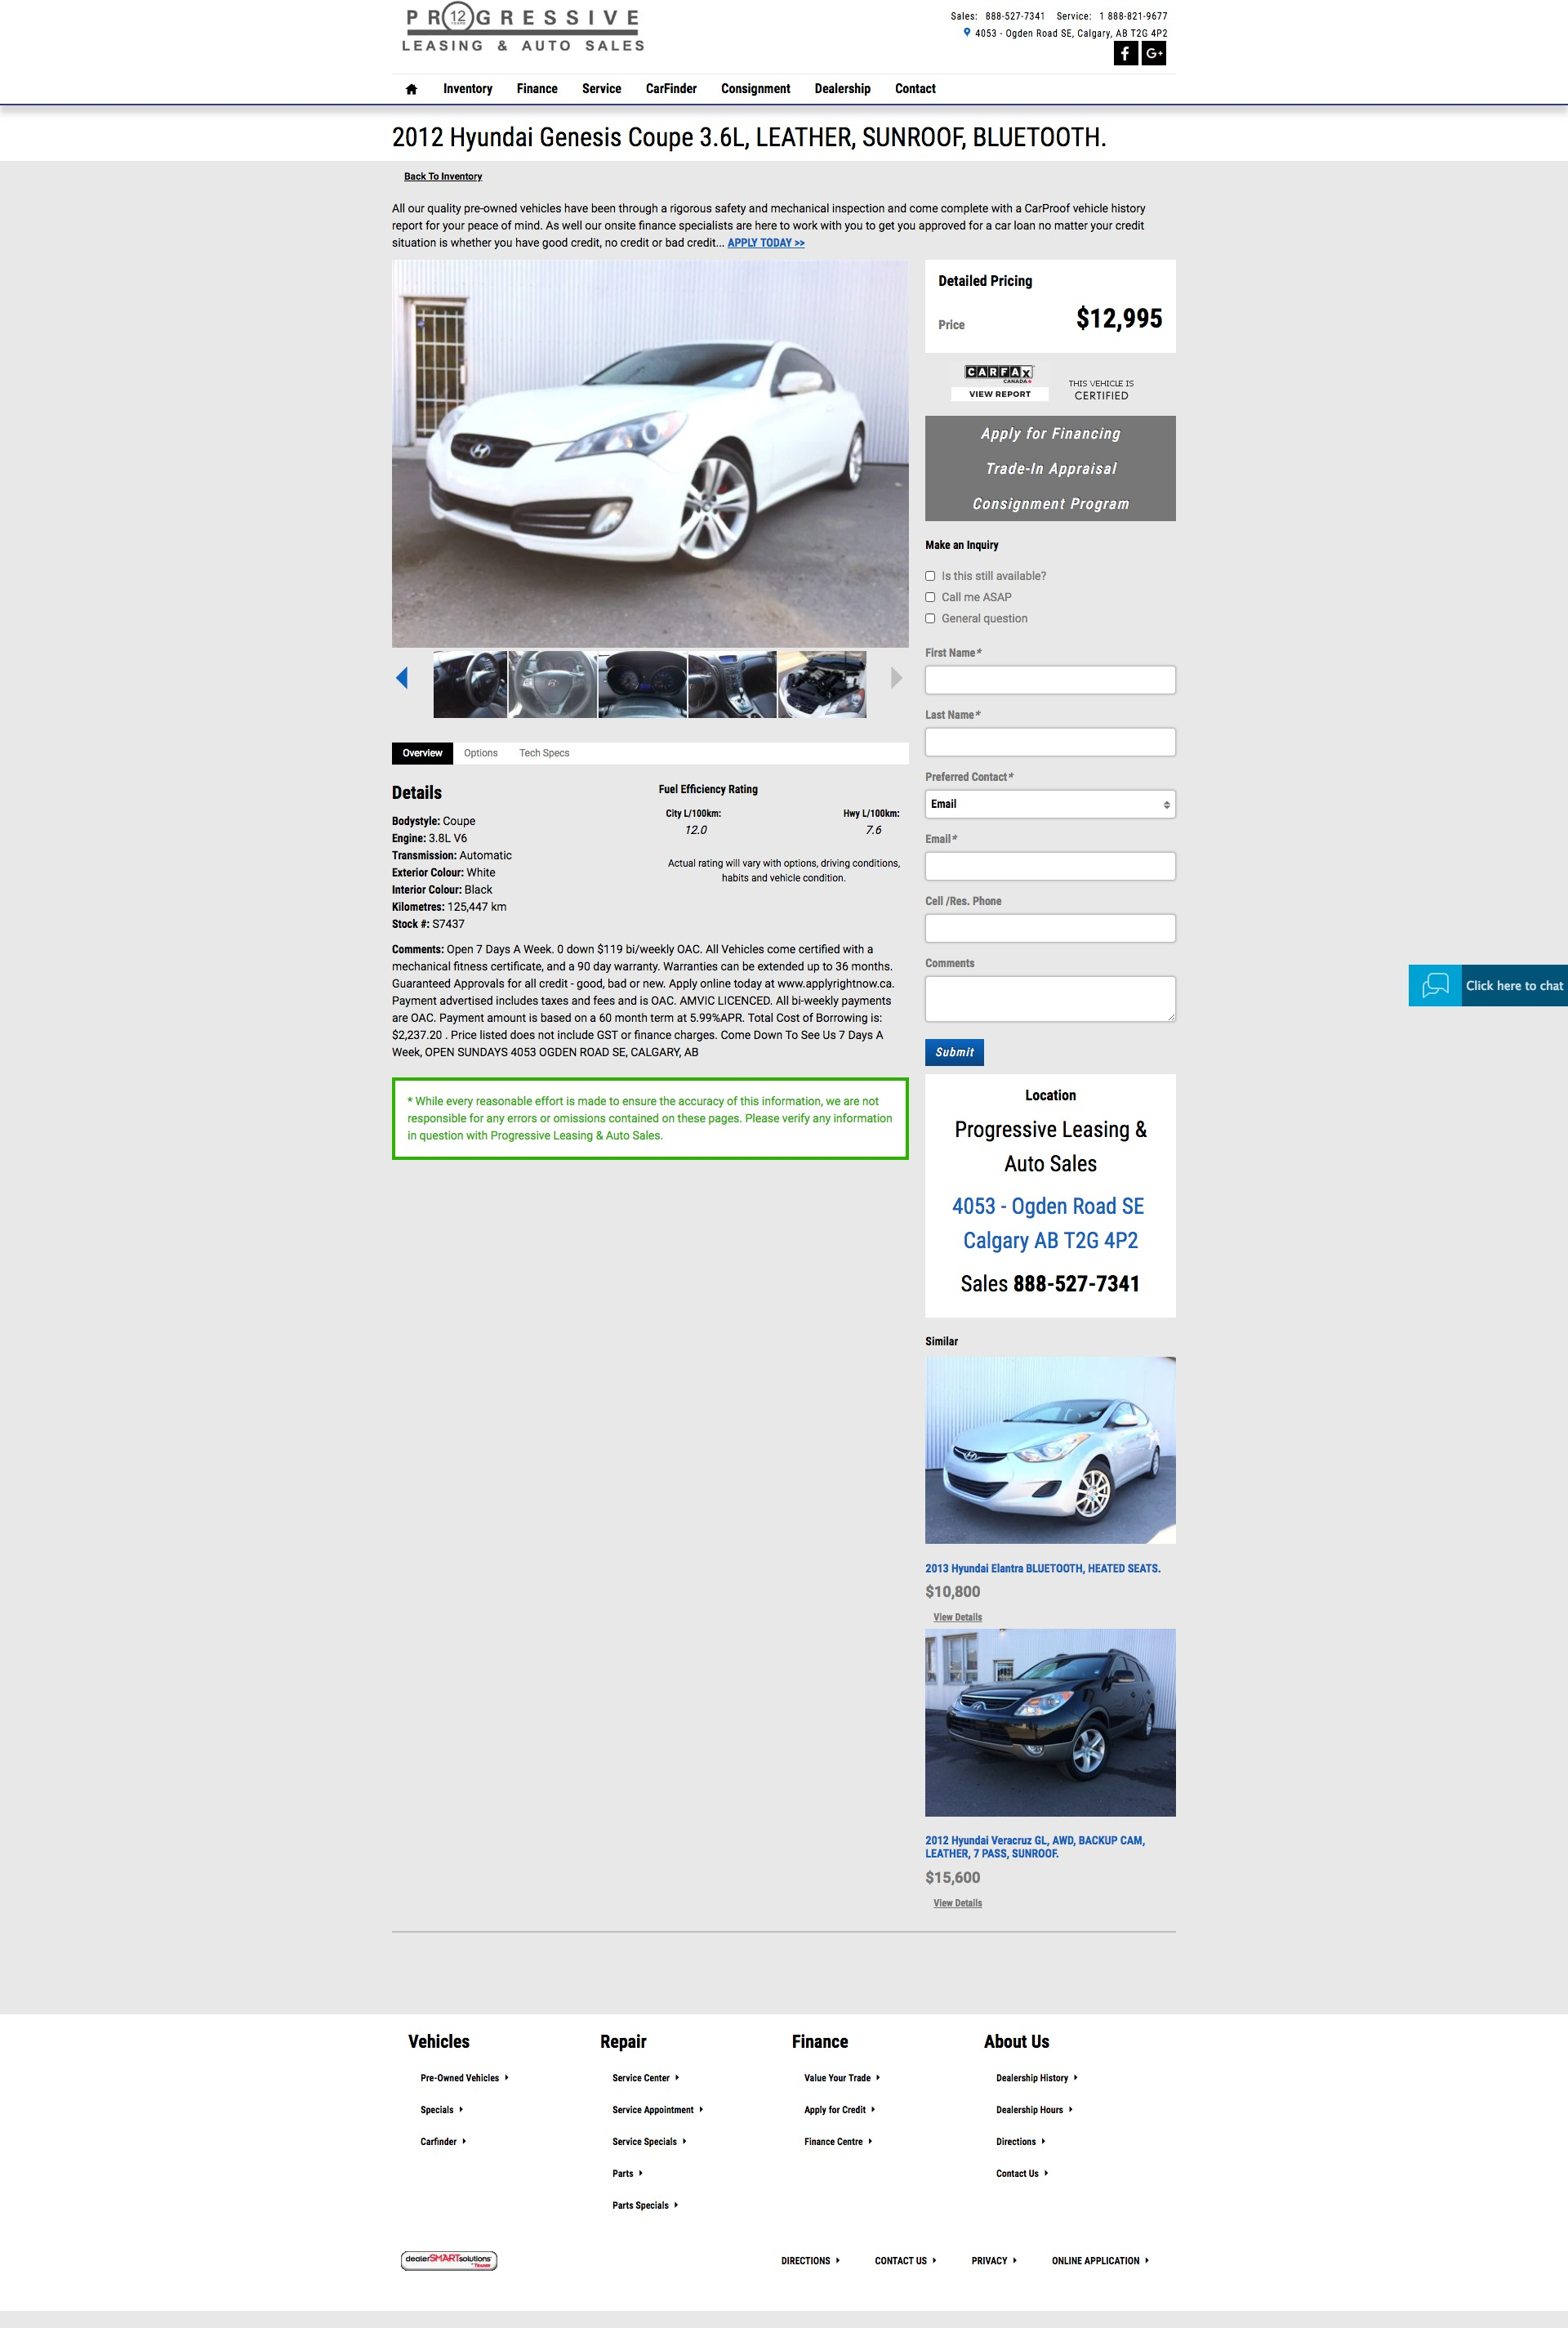car: (891, 667, 905, 690)
